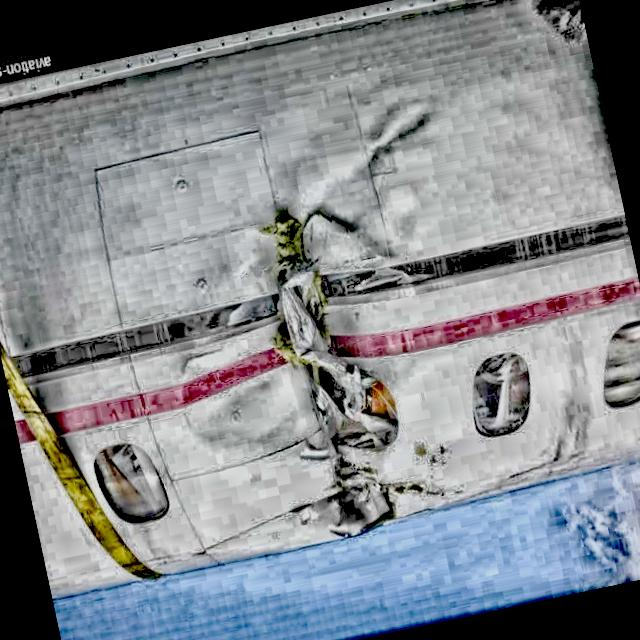crack: (234, 195, 408, 548)
